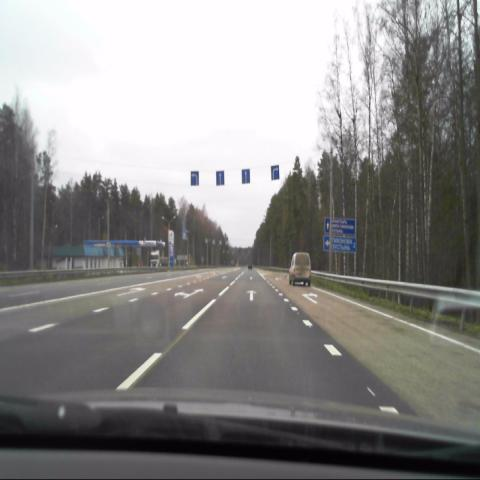5_15_2: (270, 165, 280, 180), (190, 170, 199, 186), (215, 170, 224, 185), (241, 168, 250, 183)
